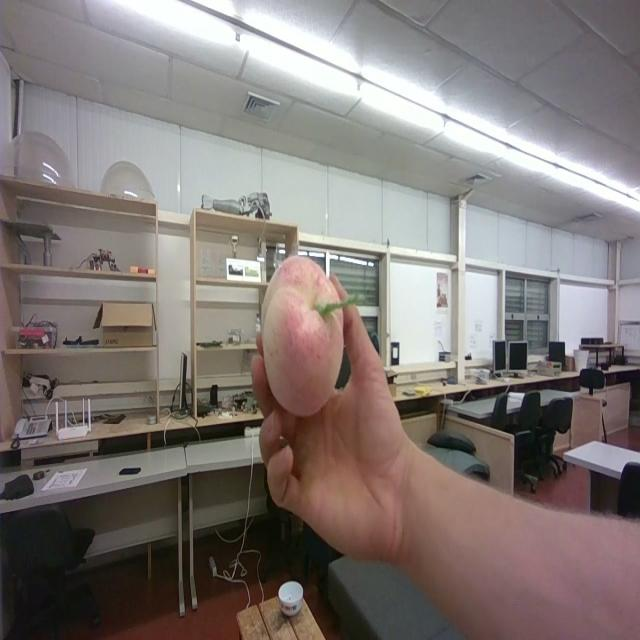peach: (262, 256, 355, 416)
